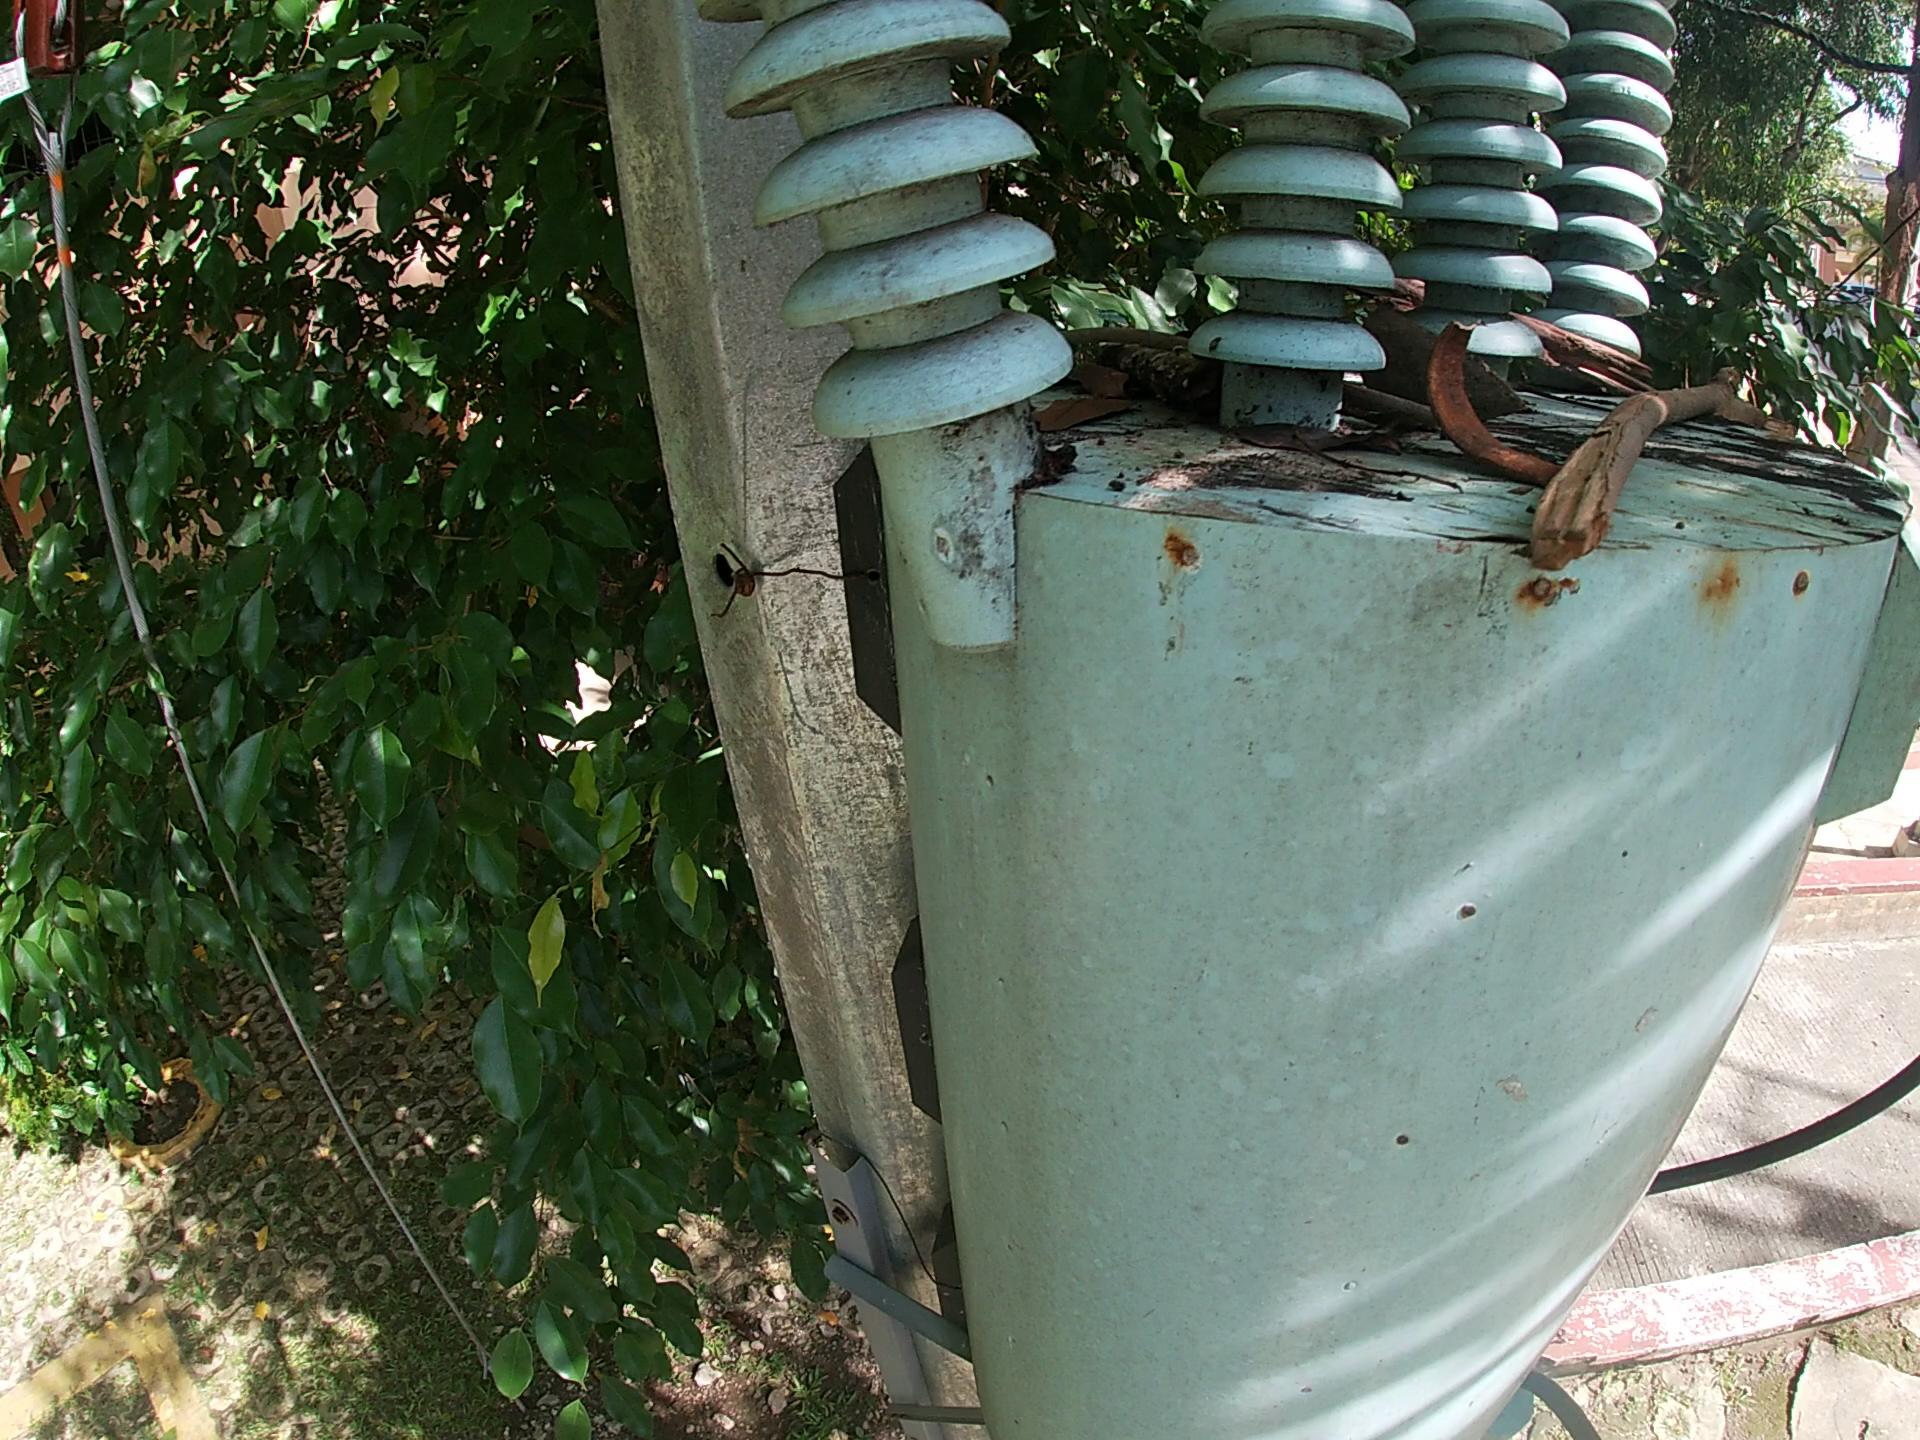leaf: (1222, 416, 1323, 446), (1045, 387, 1120, 425)
mahogany fruit: (1432, 318, 1559, 490), (1371, 309, 1530, 421)
tree branch: (1509, 375, 1825, 566), (1512, 322, 1668, 386), (1323, 446, 1476, 501), (1089, 355, 1223, 408), (1352, 386, 1436, 433), (1058, 327, 1191, 352), (1349, 281, 1426, 319), (1341, 430, 1401, 452)
